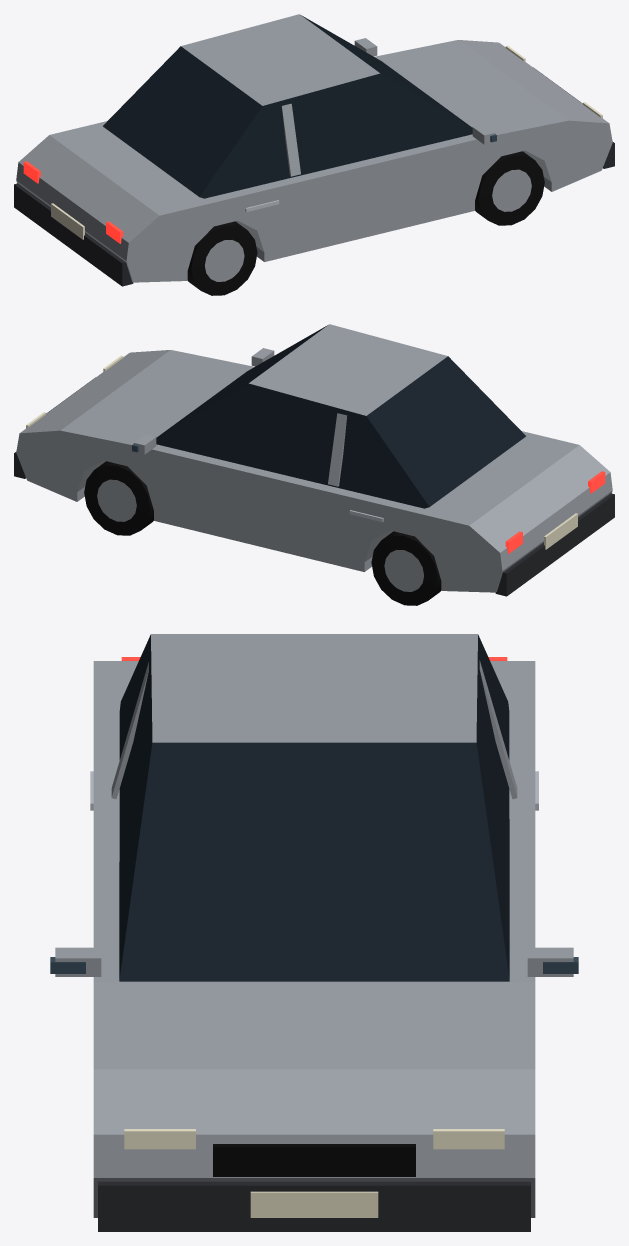
The model's file is sedan.glb.
3 renders of one model, top to bottom at view 1: azimuth 30°, elevation 25°; view 2: azimuth 150°, elevation 25°; view 3: azimuth 270°, elevation 25°, orthographic. The views are drawn at different scales.
Parts seen in each view (by area): view 1: sedan_body, wheel_rr.003, wheel_fr.001; view 2: sedan_body, wheel_rl.003, wheel_fl.001; view 3: sedan_body.
Part boxes in pixels (x1,y1,x2,y2): sedan_body: (14, 14, 614, 286); wheel_rr.003: (187, 221, 257, 295); wheel_fr.001: (475, 151, 544, 225); sedan_body: (14, 324, 614, 596); wheel_rl.003: (371, 531, 441, 605); wheel_fl.001: (84, 461, 153, 535); sedan_body: (50, 634, 578, 1231).
Bounding box in the file's own units: 4.48 × 1.48 × 2.07.
Materials: 2 (1 with a texture image).
